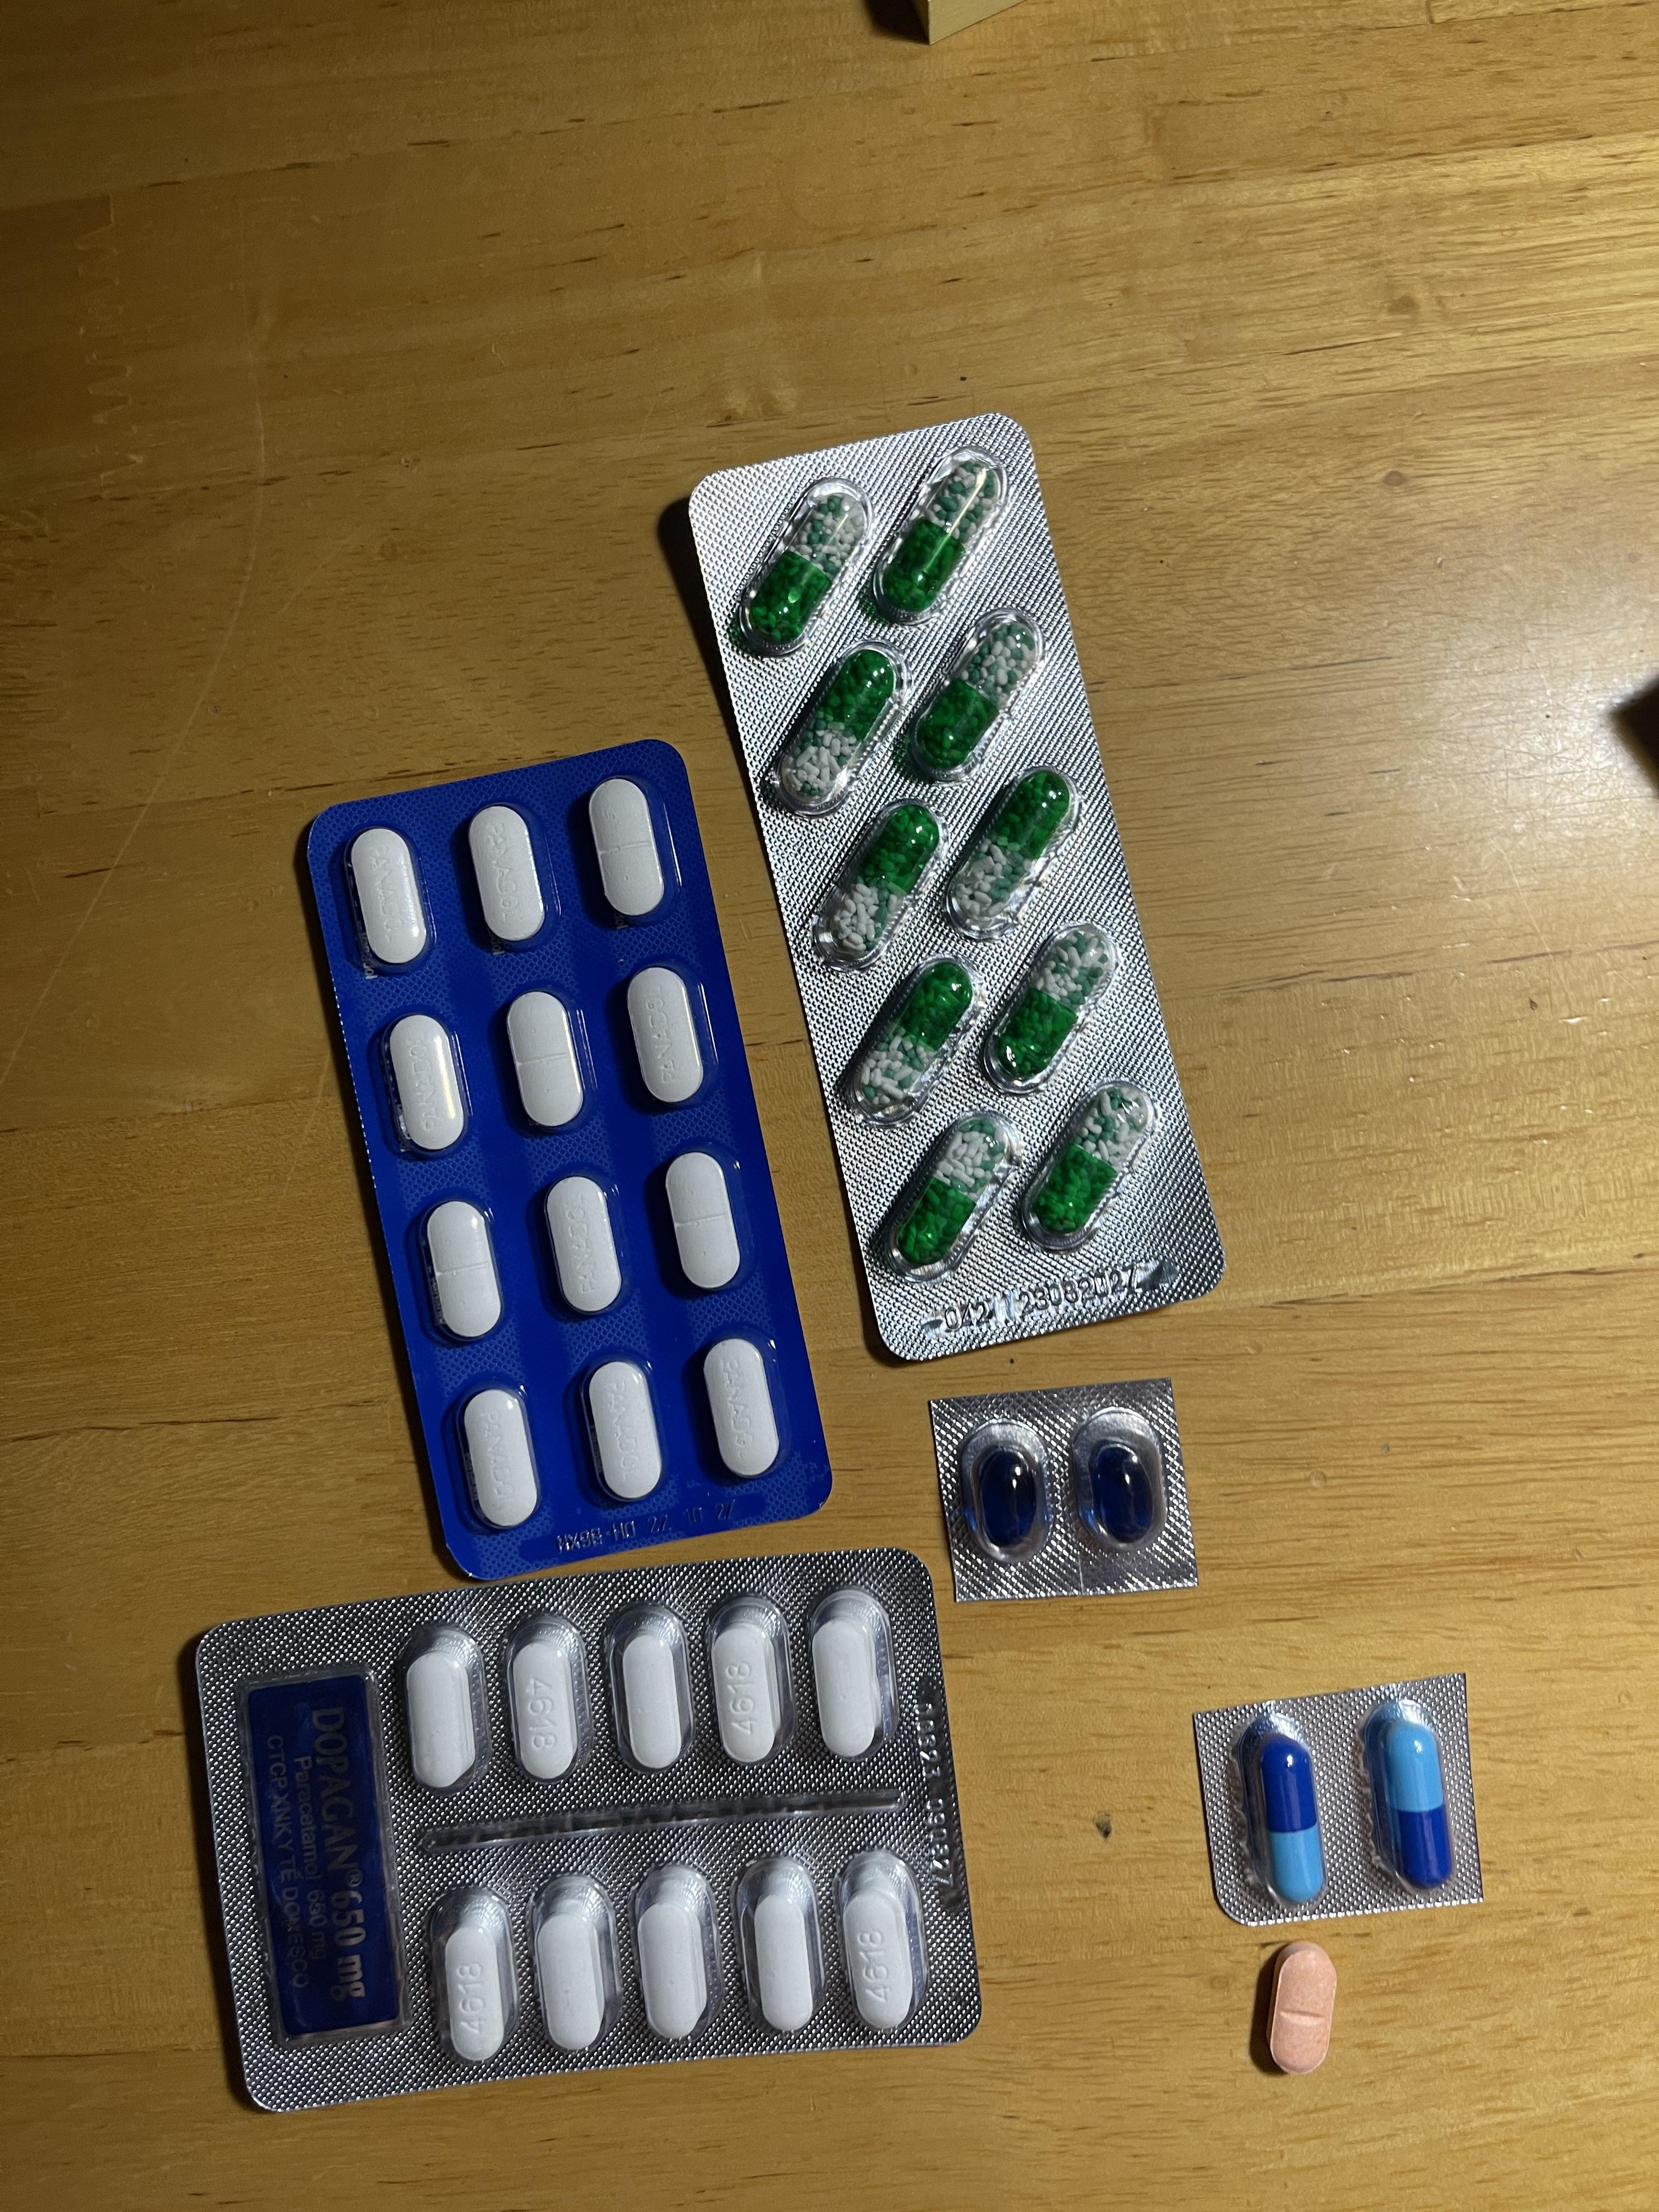Lincomyxin_500mg: (1093, 1442, 1155, 1541), (979, 1447, 1040, 1548)
Loratadine_10mg: (1263, 1937, 1337, 2074)
Paracetamol_350mg: (422, 1198, 505, 1346), (383, 1014, 465, 1160), (540, 1174, 624, 1317), (626, 968, 708, 1113), (347, 827, 430, 968), (584, 1360, 666, 1503), (505, 991, 587, 1134), (660, 1153, 744, 1292), (458, 1388, 538, 1533), (467, 806, 547, 946), (701, 1338, 781, 1475), (587, 779, 666, 918)
Paracetamol_500mg: (631, 1864, 725, 2041), (833, 1851, 918, 2036), (532, 1872, 619, 2052), (610, 1601, 695, 1773), (809, 1587, 894, 1752), (708, 1597, 793, 1763), (403, 1627, 488, 1791), (439, 1897, 512, 2062), (749, 1871, 816, 2034), (511, 1635, 580, 1780)
Paracetamol_650mg: (899, 608, 1051, 789), (732, 481, 875, 658), (871, 1108, 1021, 1277), (866, 448, 1006, 622), (836, 958, 983, 1123), (763, 643, 906, 810), (932, 763, 1079, 925), (976, 921, 1117, 1089), (1019, 1080, 1157, 1249), (807, 801, 945, 967)
pill: (1248, 1717, 1323, 1904), (1377, 1705, 1450, 1890)
